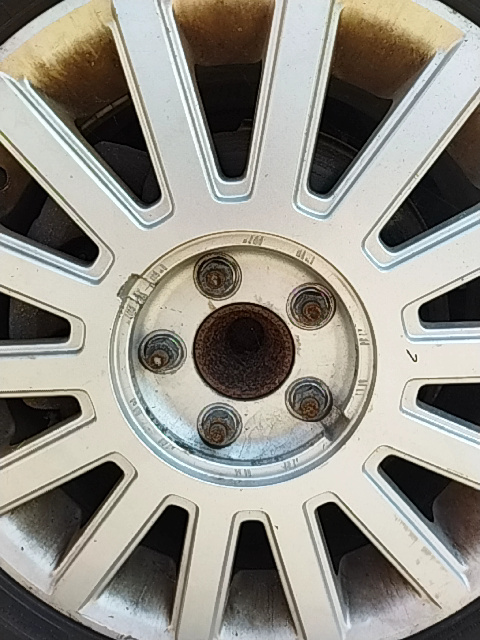l: (126, 323, 193, 382), (279, 275, 343, 335), (186, 247, 247, 307), (279, 370, 339, 429), (195, 393, 245, 453)
